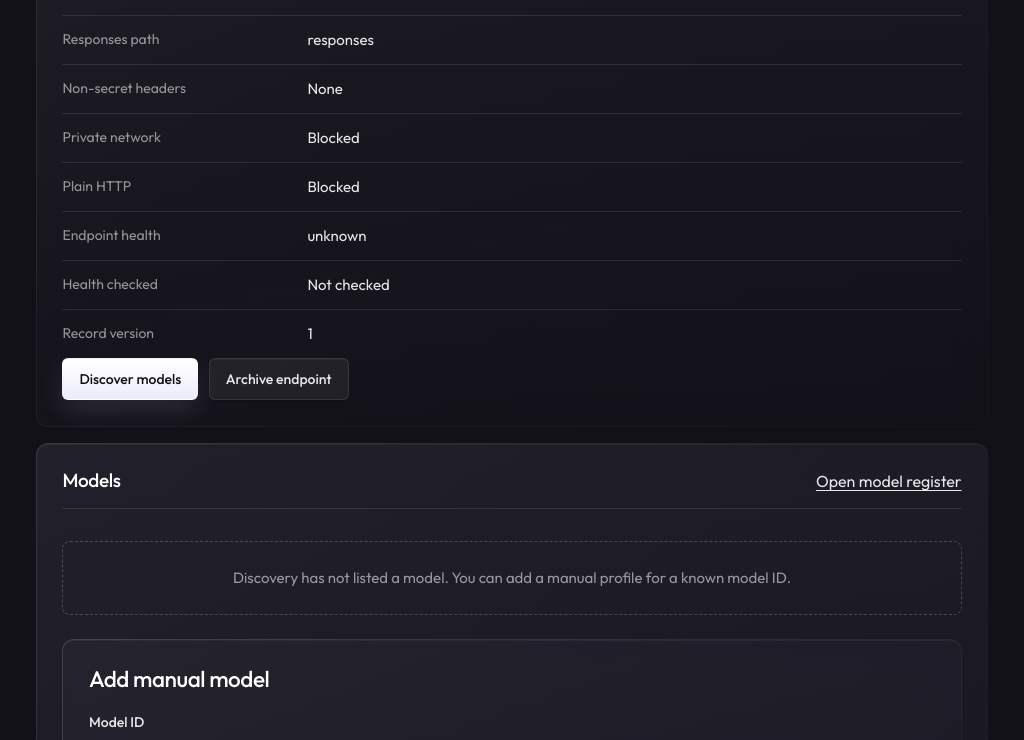
Test case: discovery retry clears a stale failure before showing the successful live job
(page scrolled)
Click the button "Discover models".
click(130, 379)  # box [62, 358, 198, 400]
(page scrolled)
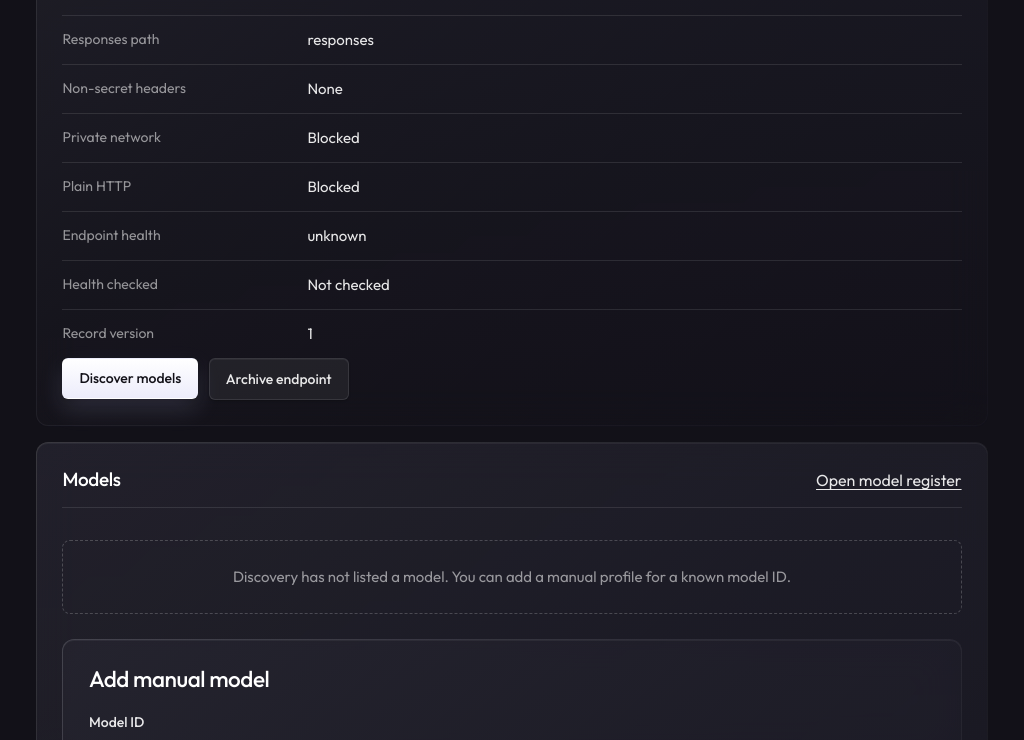
Click the button "Discover models".
click(130, 378)  # box [62, 358, 198, 400]
(page scrolled)
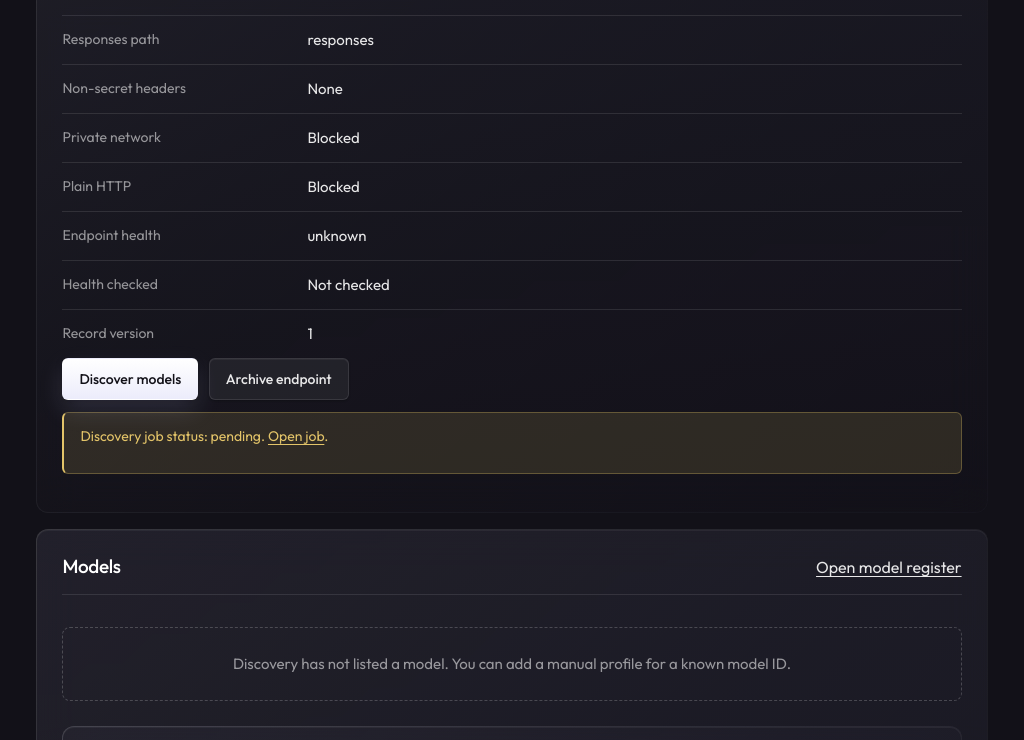
Check: the text "Discovery job status: pending. Open job ." is shown, box [80, 427, 328, 445]
